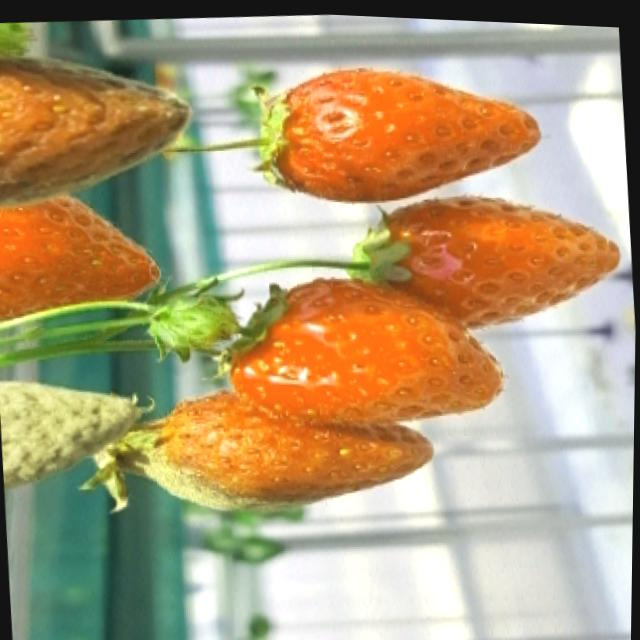Gray Mold: (79, 417, 335, 513), (0, 378, 157, 488)
